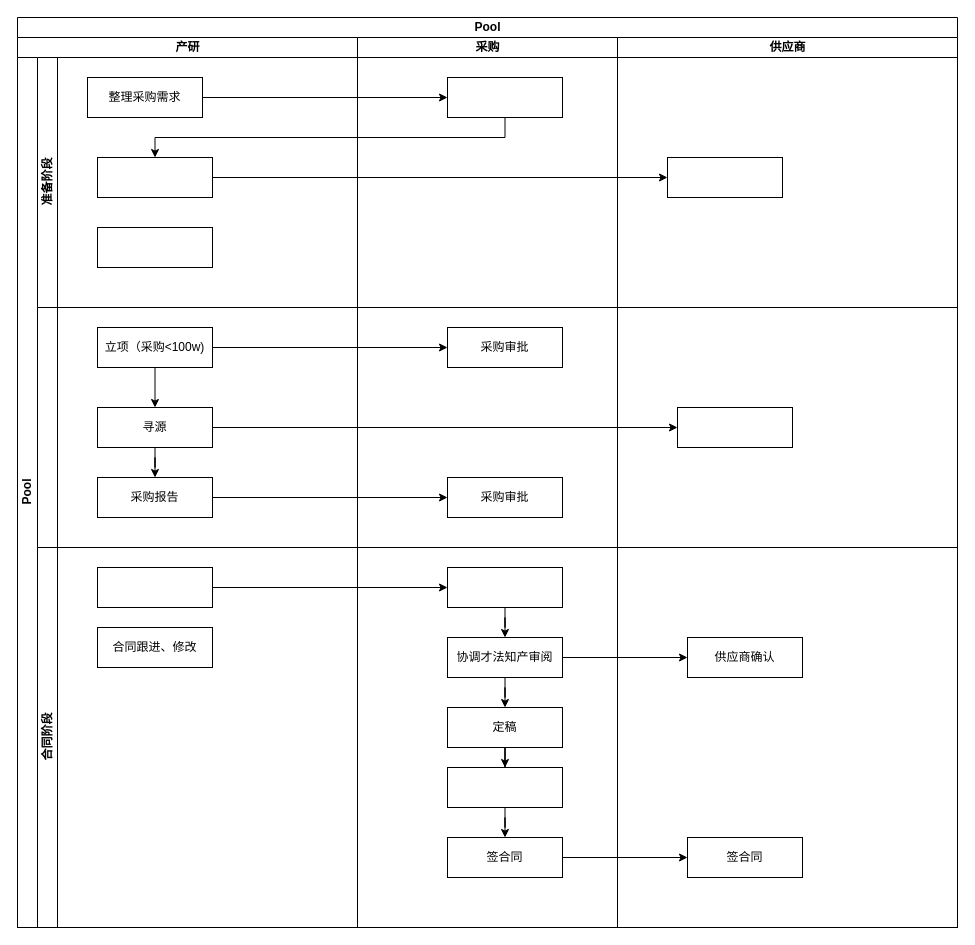
Image size: 975x945. Some labels were removed from this diagram. The box of each missing label's shape, as (x1, y1, x2, y2) in pixels:
制作报价单: (446, 76, 562, 118)
发起供应商邮件询价: (96, 156, 212, 198)
发起指定供应商审批流程: (96, 226, 212, 268)
审阅、跟进: (446, 566, 562, 608)
报价: (676, 406, 792, 448)
正审: (446, 766, 562, 808)
线上寻源: (36, 306, 958, 548)
草拟合同: (96, 566, 212, 608)
邮件回复报价: (666, 156, 782, 198)
